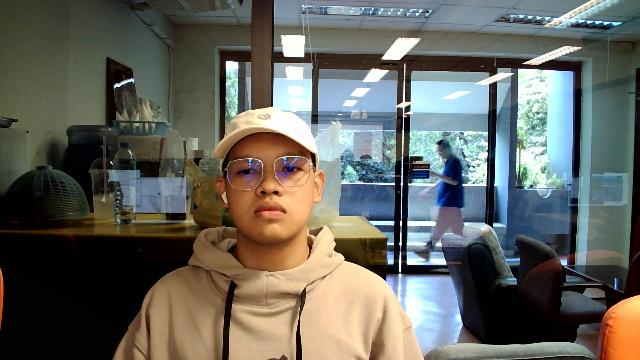fokus: (213, 107, 327, 238)
